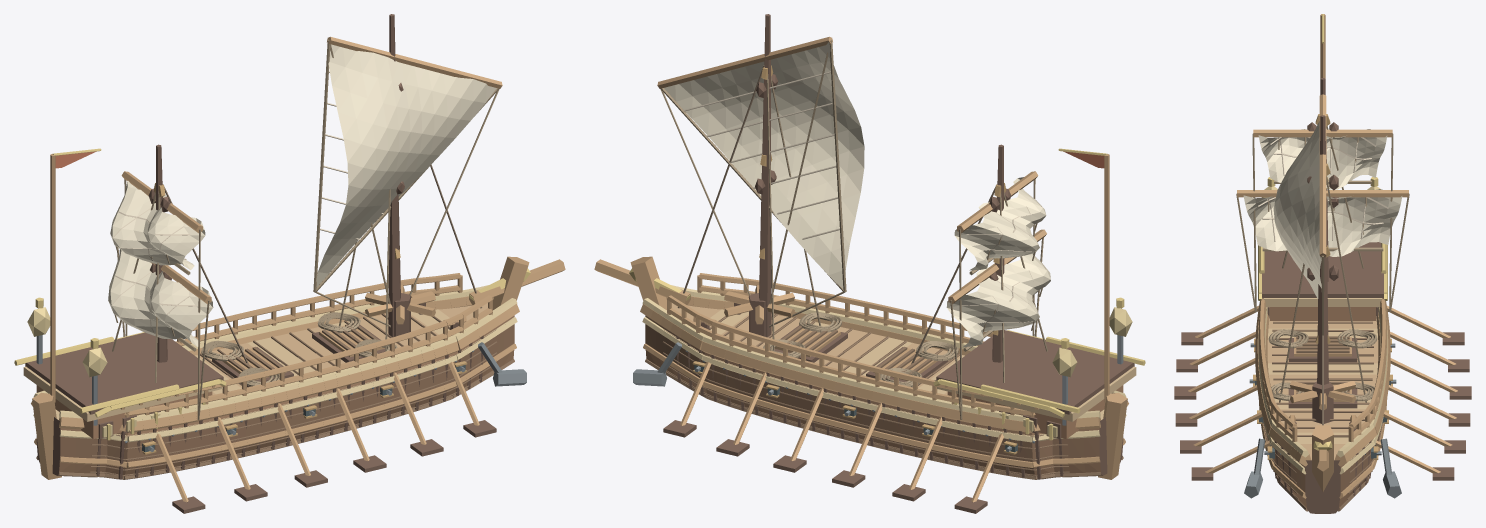
File: chola_warship-v5-mobile.glb
The picture shows the model from 3 angles, left to right: view 1: azimuth 30°, elevation 25°; view 2: azimuth 150°, elevation 25°; view 3: azimuth 270°, elevation 25°; orthographic projection. The views are drawn at different scales.
Parts seen in each view (by area): view 1: chola_warship_sails_sail, chola_warship_hull_wood, chola_warship_railings_wood, chola_warship_deck_darkwood, chola_warship_hull_pale, chola_warship_hull_hull, chola_warship_hull_seam, chola_warship_hull_hull2, chola_warship_rigging_rope, chola_warship_masts_darkwood, chola_warship_oars_wood, chola_warship_hull_darkwood (+17 smaller); view 2: chola_warship_sails_sail, chola_warship_hull_wood, chola_warship_railings_wood, chola_warship_deck_darkwood, chola_warship_hull_pale, chola_warship_hull_hull, chola_warship_hull_seam, chola_warship_rigging_rope, chola_warship_masts_darkwood, chola_warship_hull_hull2, chola_warship_rigging_wood, chola_warship_oars_wood (+17 smaller); view 3: chola_warship_sails_sail, chola_warship_oars_wood, chola_warship_deck_darkwood, chola_warship_hull_wood, chola_warship_oars_darkwood, chola_warship_hull_deck, chola_warship_rigging_wood, chola_warship_railings_wood, chola_warship_hull_seam, chola_warship_masts_darkwood, chola_warship_hull_decklight, chola_warship_rigging_rope (+13 smaller).
Part boxes in pixels (x1,y1,x2,y2): chola_warship_sails_sail: [108, 44, 496, 346]; chola_warship_hull_wood: [31, 256, 565, 479]; chola_warship_railings_wood: [124, 273, 492, 417]; chola_warship_deck_darkwood: [25, 332, 223, 438]; chola_warship_hull_pale: [33, 285, 517, 442]; chola_warship_hull_hull: [57, 324, 514, 476]; chola_warship_hull_seam: [36, 313, 514, 479]; chola_warship_hull_hull2: [59, 315, 514, 476]; chola_warship_rigging_rope: [114, 39, 499, 419]; chola_warship_masts_darkwood: [148, 14, 404, 362]; chola_warship_oars_wood: [156, 361, 479, 502]; chola_warship_hull_darkwood: [36, 335, 483, 479]; chola_warship_sails_sail: [664, 41, 1050, 347]; chola_warship_hull_wood: [594, 256, 1128, 479]; chola_warship_railings_wood: [667, 273, 1035, 417]; chola_warship_deck_darkwood: [936, 330, 1134, 438]; chola_warship_hull_pale: [642, 285, 1126, 442]; chola_warship_hull_hull: [645, 324, 1102, 476]; chola_warship_hull_seam: [645, 313, 1123, 479]; chola_warship_rigging_rope: [660, 39, 1043, 419]; chola_warship_masts_darkwood: [755, 14, 1011, 362]; chola_warship_hull_hull2: [645, 315, 1100, 476]; chola_warship_rigging_wood: [657, 36, 1046, 304]; chola_warship_oars_wood: [680, 361, 1003, 502]; chola_warship_sails_sail: [1243, 121, 1402, 298]; chola_warship_oars_wood: [1188, 305, 1457, 473]; chola_warship_deck_darkwood: [1262, 242, 1383, 318]; chola_warship_hull_wood: [1255, 301, 1390, 498]; chola_warship_oars_darkwood: [1174, 332, 1471, 480]; chola_warship_hull_deck: [1267, 316, 1378, 460]; chola_warship_rigging_wood: [1237, 94, 1408, 257]; chola_warship_railings_wood: [1259, 298, 1386, 441]; chola_warship_hull_seam: [1263, 321, 1382, 511]; chola_warship_masts_darkwood: [1307, 78, 1338, 384]; chola_warship_hull_decklight: [1268, 328, 1377, 443]; chola_warship_rigging_rope: [1236, 133, 1409, 335].
Bounding box in the file's own units: 51 × 35.08 × 26.68.
